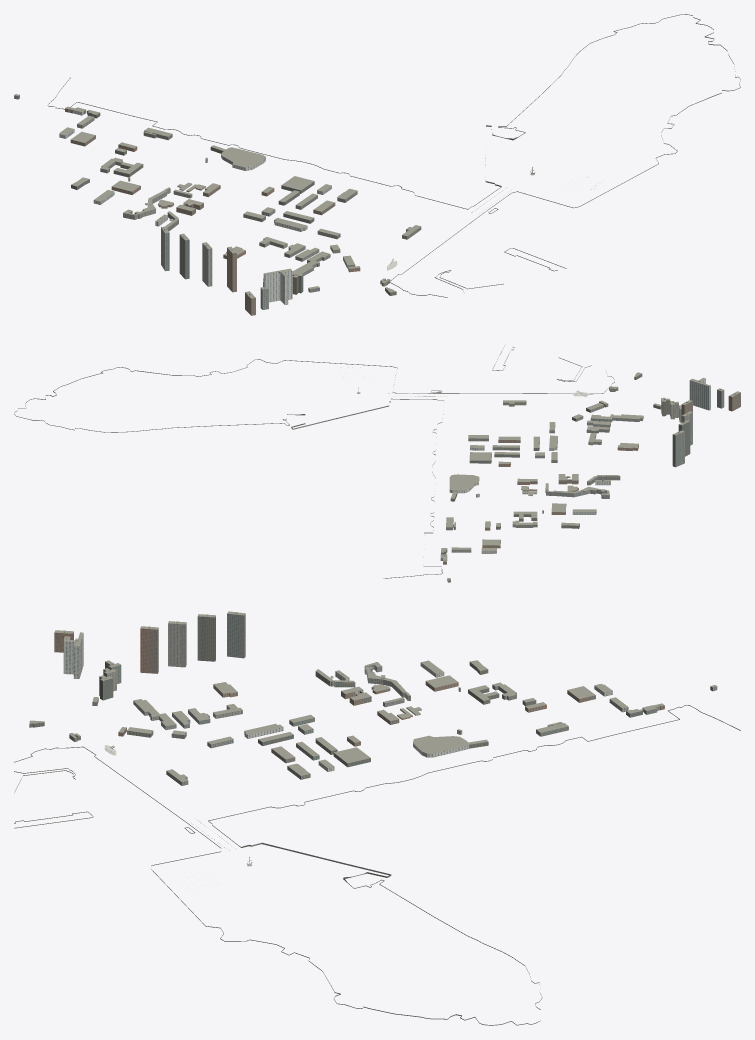
3 renders of one model, top to bottom at view 1: azimuth 30°, elevation 25°; view 2: azimuth 150°, elevation 25°; view 3: azimuth 270°, elevation 25°, orthographic. The views are drawn at different scales.
Parts seen in each view (by area): view 1: context_buildings-0, context_buildings-3, context_buildings-5, context_buildings-2, context_buildings-4, facility_island-shore, context_buildings-1; view 2: context_buildings-2, context_buildings-3, context_buildings-0, context_buildings-4, context_buildings-5, facility_island-shore, context_buildings-1; view 3: context_buildings-0, context_buildings-5, context_buildings-2, context_buildings-3, context_buildings-4, facility_island-shore, context_buildings-1.
Boxes of the visible parts, box(x1,y1,x2,y2) form: context_buildings-0: box(73, 109, 421, 295); context_buildings-3: box(77, 115, 307, 304); context_buildings-5: box(75, 107, 390, 309); context_buildings-2: box(14, 94, 340, 292); context_buildings-4: box(87, 110, 357, 315); facility_island-shore: box(47, 14, 740, 297); context_buildings-1: box(59, 106, 360, 279); context_buildings-2: box(443, 403, 684, 582); context_buildings-3: box(450, 378, 710, 552); context_buildings-0: box(444, 372, 692, 560); context_buildings-4: box(441, 391, 740, 554); context_buildings-5: box(440, 386, 724, 560); facility_island-shore: box(14, 346, 614, 578); context_buildings-1: box(443, 400, 690, 564); context_buildings-0: box(29, 621, 654, 785); context_buildings-5: box(63, 626, 657, 745); context_buildings-2: box(92, 611, 717, 771); context_buildings-3: box(63, 632, 628, 748); context_buildings-4: box(54, 630, 642, 779); facility_island-shore: box(14, 705, 740, 1025); context_buildings-1: box(118, 614, 664, 767).
Size of what is drawn, in the model's own units: 1937 by 121 by 1620.
11 materials, 3 textured.
